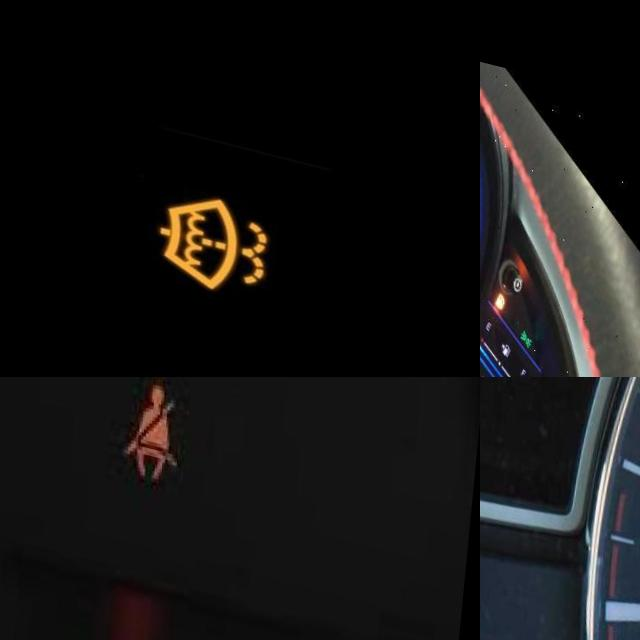Seat Belt: (133, 377, 185, 467)
Washer Fluid: (162, 171, 280, 283)
